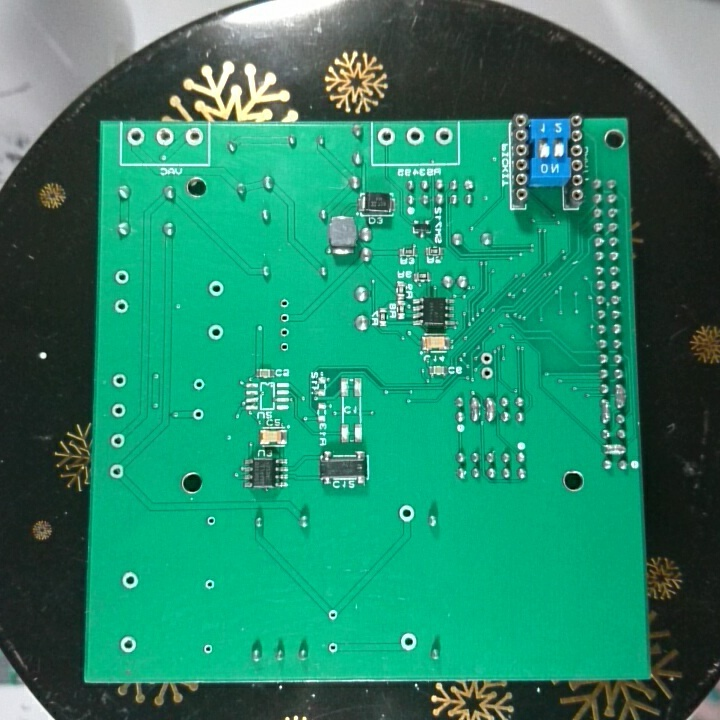F: (375, 124, 399, 149), (397, 629, 420, 655), (432, 124, 455, 148), (153, 126, 177, 149), (119, 568, 140, 594), (182, 125, 205, 148), (125, 125, 147, 149), (117, 633, 139, 655), (405, 126, 426, 149), (111, 295, 132, 318), (205, 277, 226, 300), (397, 502, 417, 526), (205, 320, 225, 343), (108, 400, 128, 422), (109, 371, 131, 390), (108, 429, 127, 450), (107, 462, 127, 481), (111, 268, 132, 286), (188, 375, 208, 393), (189, 405, 206, 425), (202, 575, 218, 595), (276, 336, 292, 355), (478, 365, 497, 381), (202, 512, 219, 529), (324, 606, 341, 623), (478, 349, 495, 365), (201, 640, 214, 660), (325, 640, 341, 656), (277, 310, 291, 325), (277, 324, 291, 339), (277, 296, 291, 310)
P: (612, 381, 628, 412), (597, 396, 614, 425), (600, 440, 629, 456), (482, 395, 496, 426), (468, 395, 481, 424)
